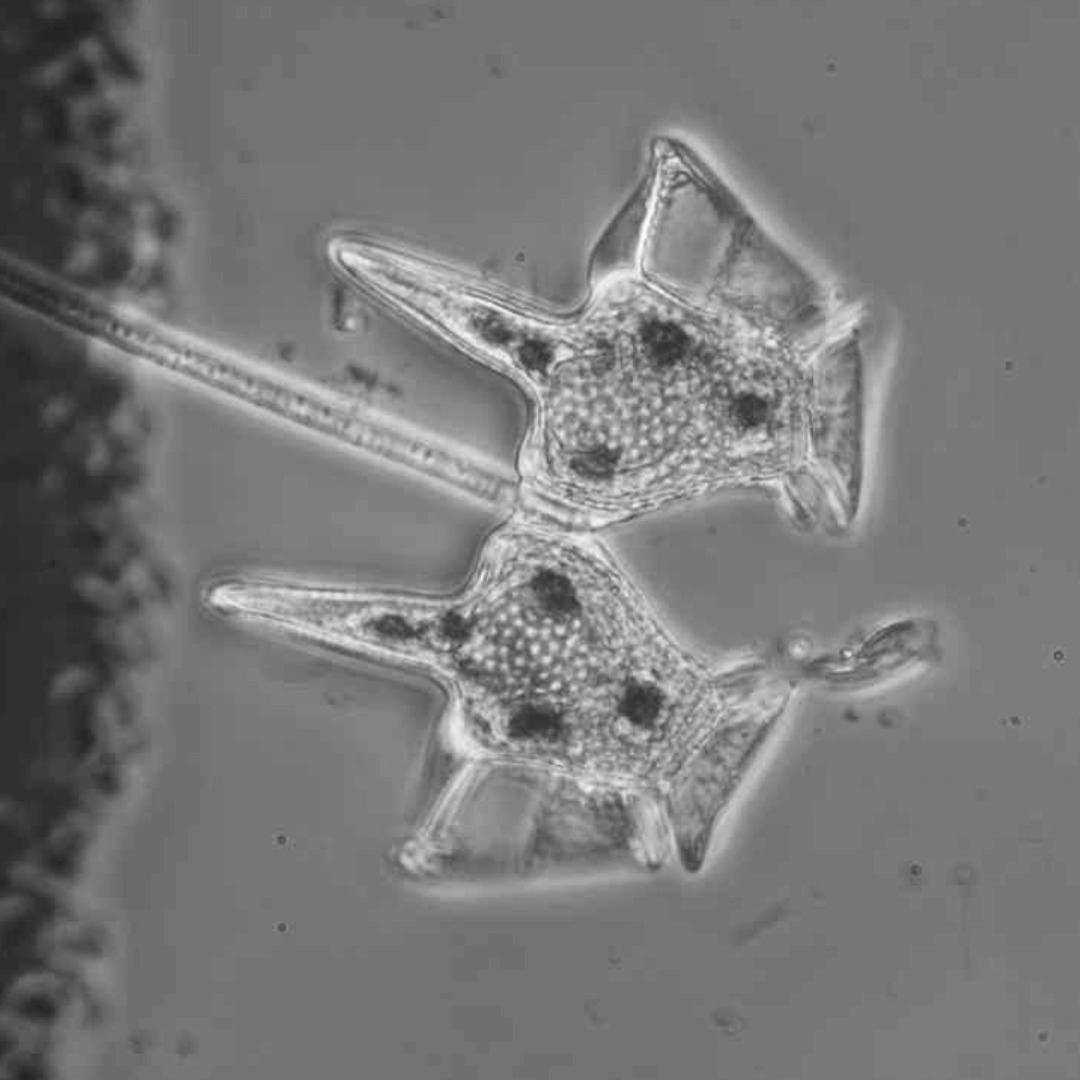dinophysis_caudata: (200, 518, 797, 886), (321, 133, 869, 533)
